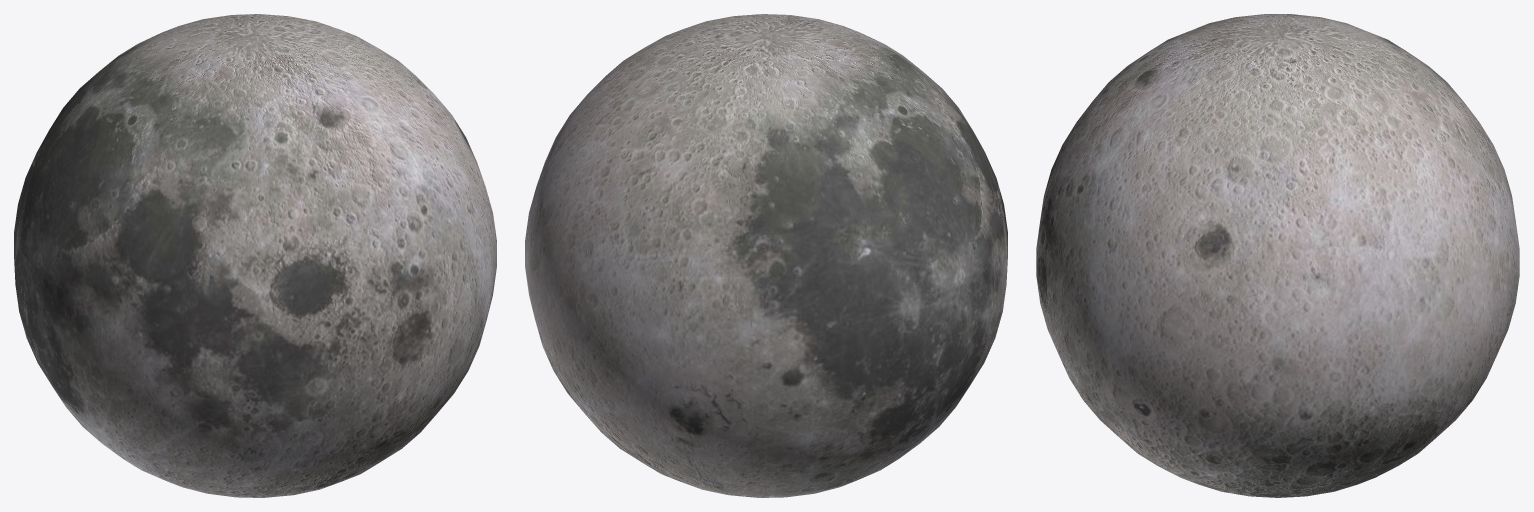
Rendered from moon.obj.
3 renders of one model, left to right at view 1: azimuth 30°, elevation 25°; view 2: azimuth 150°, elevation 25°; view 3: azimuth 270°, elevation 25°, orthographic.
Parts seen in each view (by area): view 1: moon; view 2: moon; view 3: moon.
Part boxes in pixels (left/top/right/bottom): moon: left=14, top=14, right=496, bottom=497; moon: left=525, top=14, right=1007, bottom=497; moon: left=1036, top=14, right=1519, bottom=497.
Bounding box in the file's own units: 38.71 × 38.94 × 38.78.
Materials: 1 (1 with a texture image).
